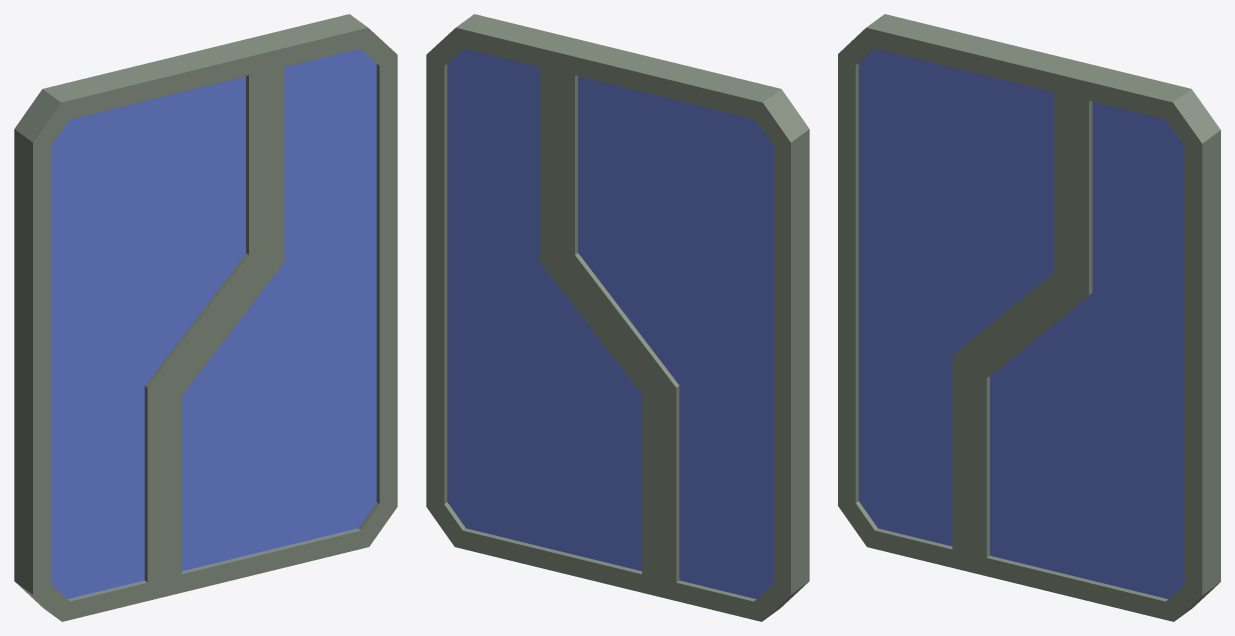
The model's file is sci fi set - glass doors.fbx.
3 renders of one model, left to right at view 1: azimuth 30°, elevation 25°; view 2: azimuth 150°, elevation 25°; view 3: azimuth 330°, elevation 25°, orthographic.
Visible parts, largest first — view 1: Door_Right_002, Door_Left_002; view 2: Door_Right_002, Door_Left_002; view 3: Door_Left_002, Door_Right_002.
Boxes of the visible parts, bbox=[...] form: Door_Right_002: bbox=[14, 39, 266, 621]; Door_Left_002: bbox=[164, 14, 397, 596]; Door_Right_002: bbox=[557, 39, 809, 621]; Door_Left_002: bbox=[426, 14, 659, 596]; Door_Left_002: bbox=[969, 64, 1220, 621]; Door_Right_002: bbox=[838, 14, 1089, 571].
Size of the model in its own units: 1.69 by 2.3 by 0.15.
